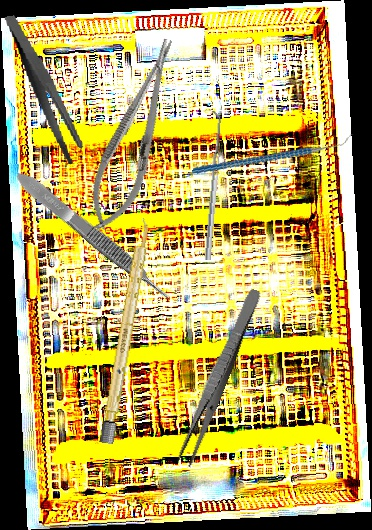Chopper: (192, 110, 353, 197)
Dressing Forceps: (173, 285, 264, 469), (3, 7, 87, 171)
Needle Holder: (77, 31, 193, 239)
Scalpel Handle: (99, 217, 153, 445)
Spatula Surgical: (198, 110, 224, 261)
Tissue Forceps: (12, 166, 176, 309)
